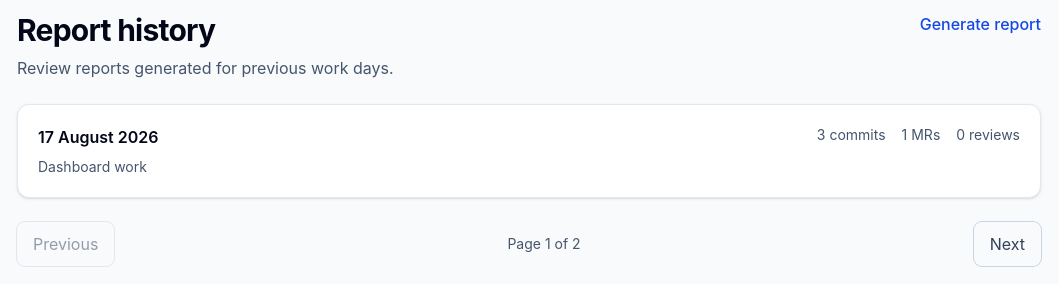
report history page › renders reports and paginates through URL state
The image size is (1059, 284).
Click the button "Next". click: (1007, 244)
box: [974,222,1041,266]
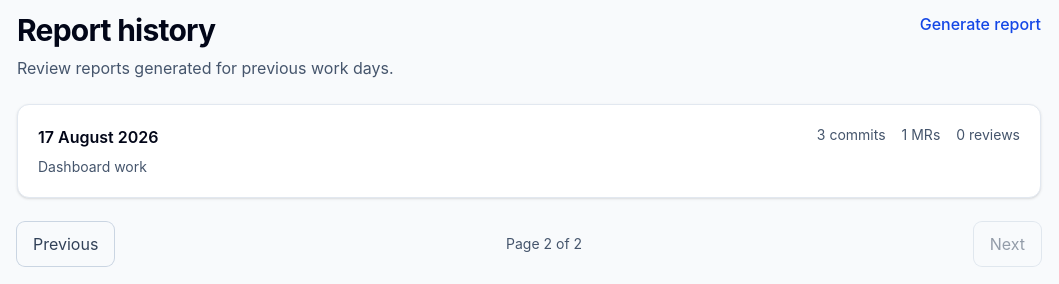
Expected: the text "Page 2 of 2" is shown, [506,234,582,254]
